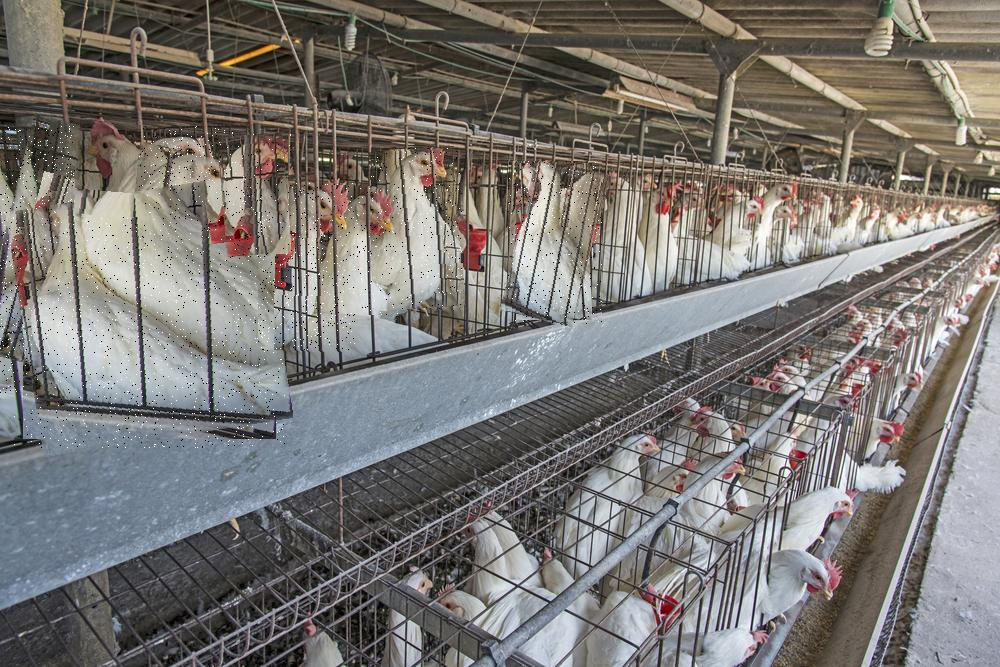chicken: (14, 182, 285, 448), (0, 126, 234, 393), (259, 184, 356, 352), (509, 162, 603, 325), (372, 148, 463, 310), (323, 186, 404, 315), (220, 134, 291, 256), (76, 121, 140, 217)
